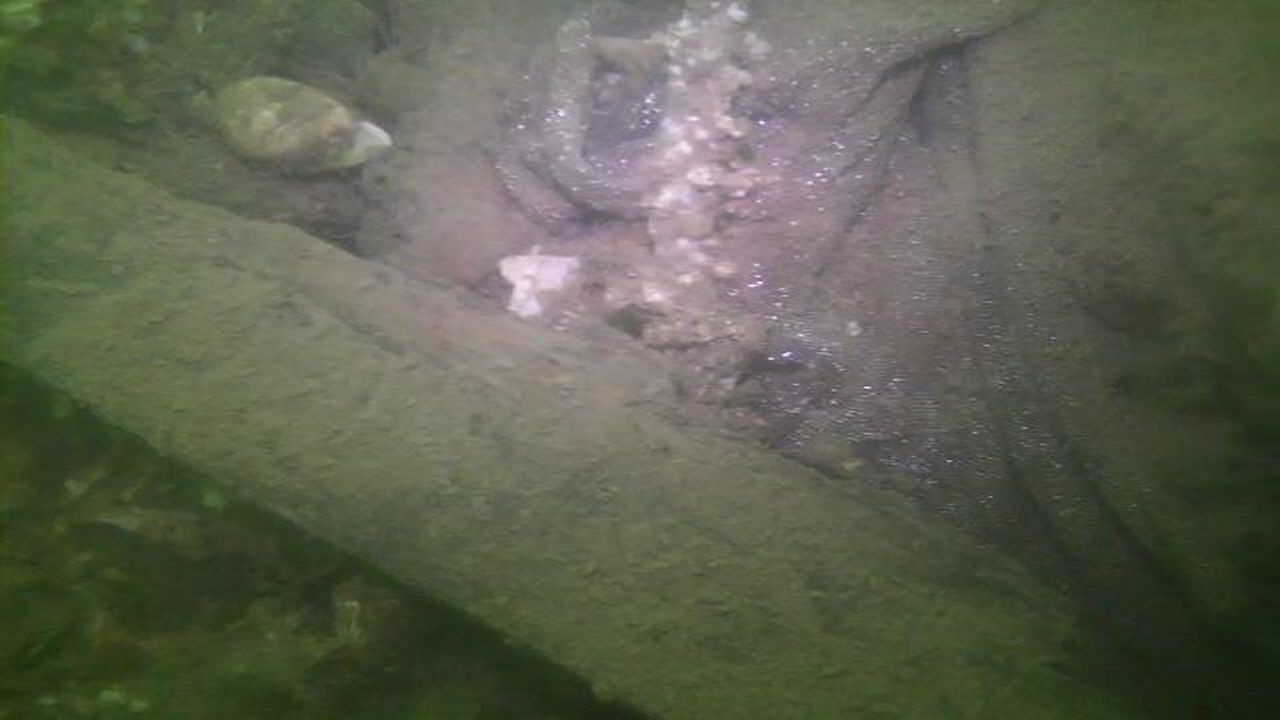wood: (0, 110, 1080, 720)
